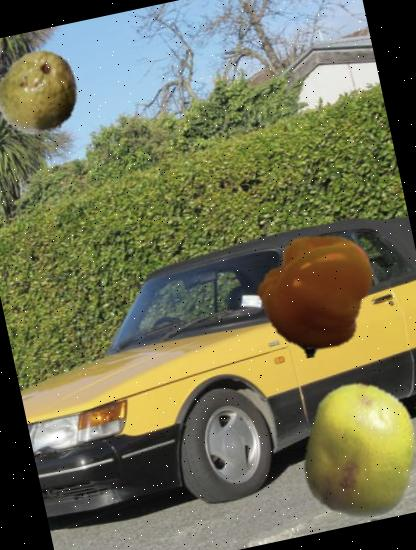Guava: (0, 42, 90, 146)
Pepper: (244, 222, 390, 367)
Pomelo: (280, 370, 416, 532)
